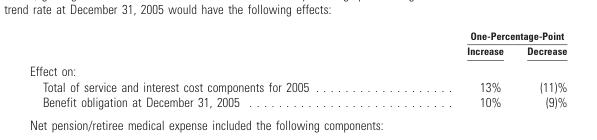table: (28, 28, 566, 109)
table column: (28, 28, 387, 109), (387, 28, 514, 109), (514, 28, 566, 109)
table column header: (28, 28, 566, 59)
table projected row header: (28, 59, 566, 78)
table row: (28, 59, 566, 78), (28, 42, 566, 59), (28, 93, 566, 109), (28, 78, 566, 93), (28, 28, 566, 42)
table spanning cell: (387, 28, 566, 42)
